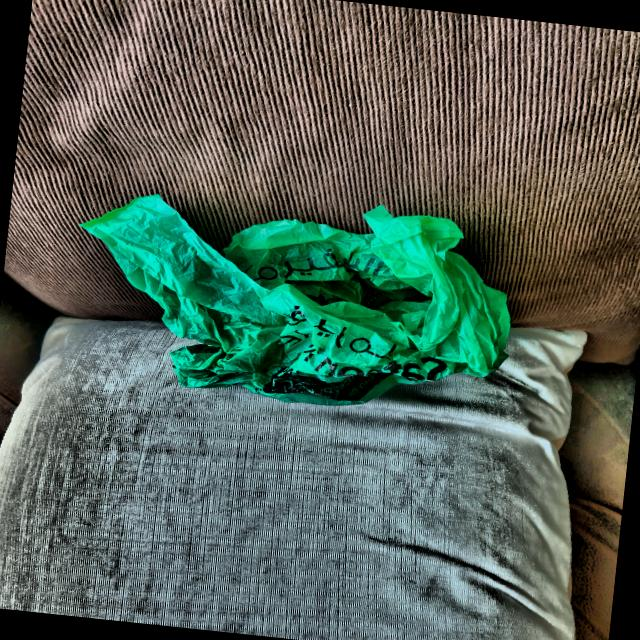plastic bag: (53, 149, 552, 438)
